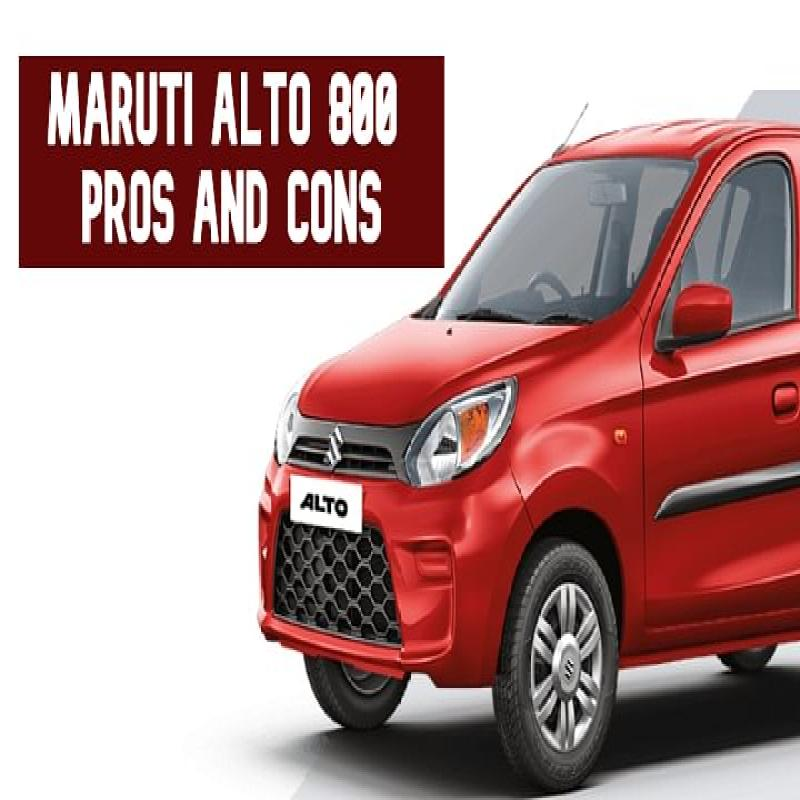car: (249, 75, 800, 764)
